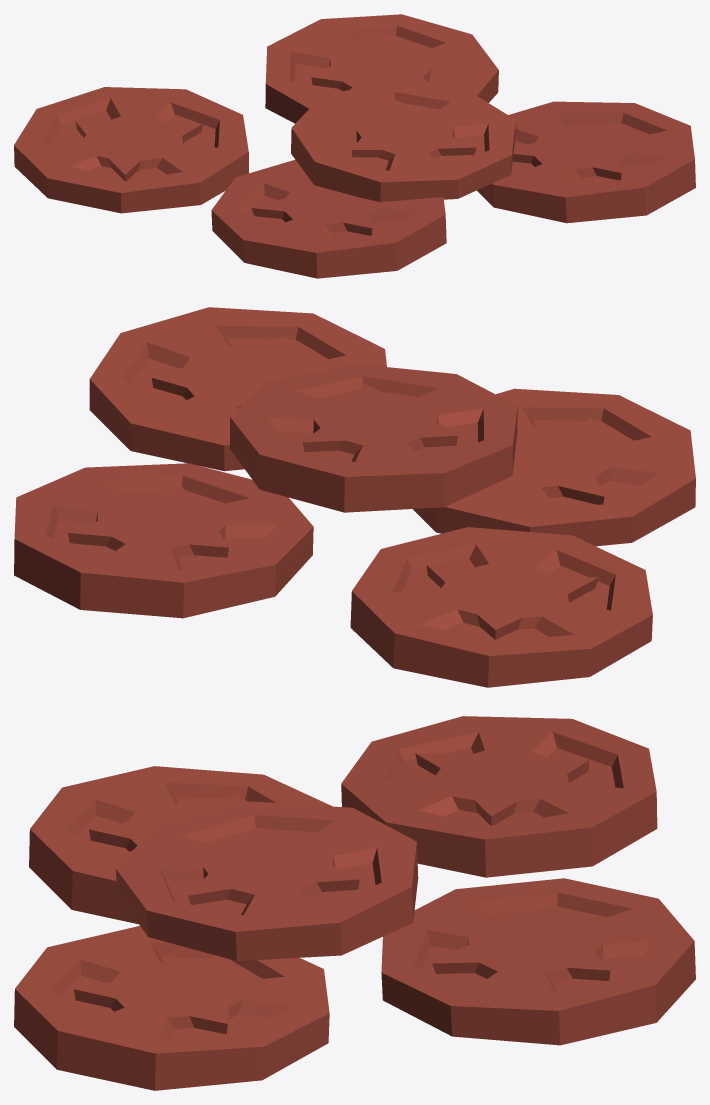
The model's file is Tomato Slice.glb.
The picture shows the model from 3 angles, top to bottom: view 1: azimuth 30°, elevation 25°; view 2: azimuth 150°, elevation 25°; view 3: azimuth 270°, elevation 25°; orthographic projection. The views are drawn at different scales.
Parts seen in each view (by area): view 1: Tomato_Slice; view 2: Tomato_Slice; view 3: Tomato_Slice.
Part boxes in pixels (x1=…): Tomato_Slice: x1=14, y1=14, x2=695, y2=278; Tomato_Slice: x1=14, y1=307, x2=695, y2=687; Tomato_Slice: x1=14, y1=716, x2=695, y2=1090.
Bounding box in the file's own units: 0.8057 × 0.0765 × 0.6686.
